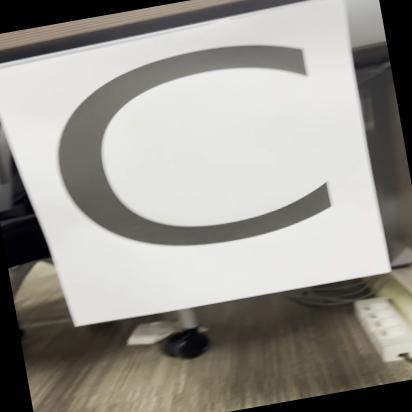seat: (0, 0, 412, 334)
